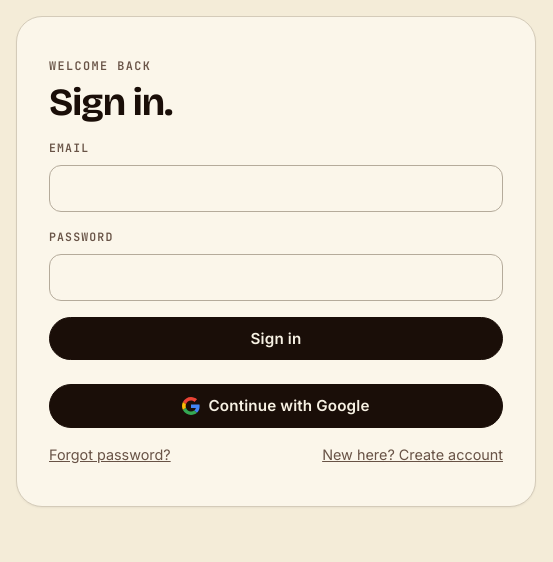
account boundaries › keeps a failed login form mounted so its error is visible
Type "a@example.invalid" into the field labelled "Email" at [276, 188], box [49, 165, 503, 212]
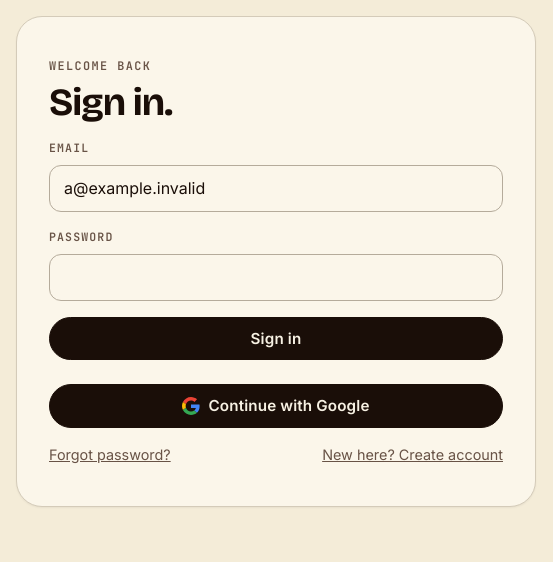
Type "test-password" into the password field labelled "Password" at [276, 277], box [49, 254, 503, 301]
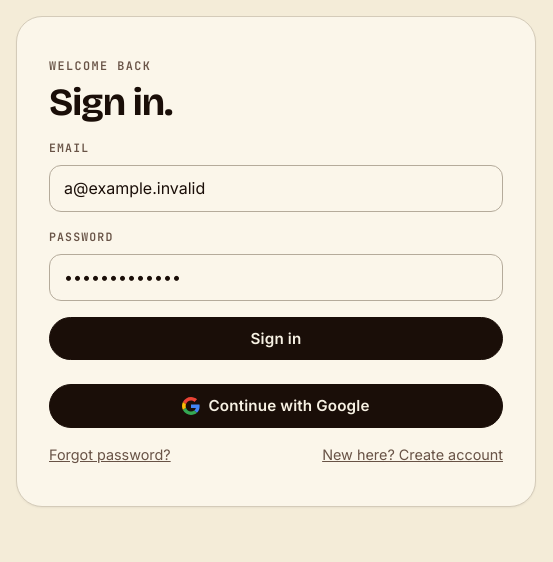
Click the button "Sign in" at [276, 338], box [49, 317, 503, 360]
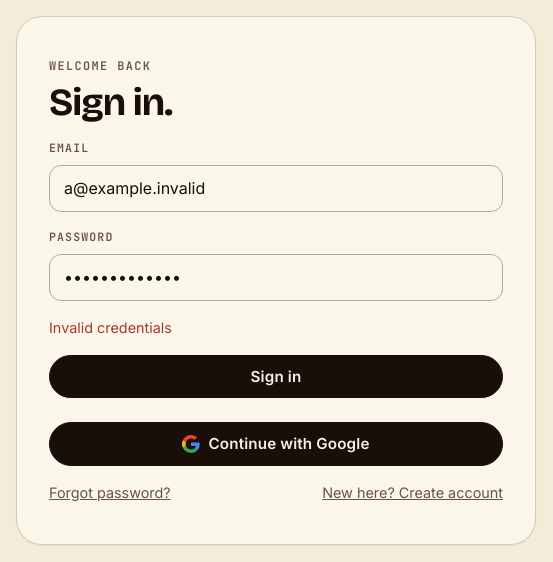
Expected: the text "Invalid credentials" is shown, [49, 319, 172, 336]
